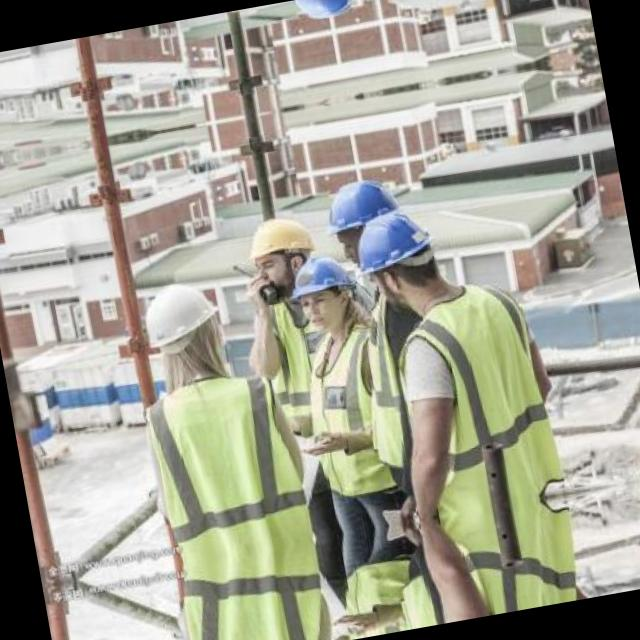helmet: (334, 178, 439, 310), (131, 271, 230, 384), (280, 245, 370, 341), (235, 208, 326, 299), (315, 174, 401, 256), (281, 0, 361, 26)
